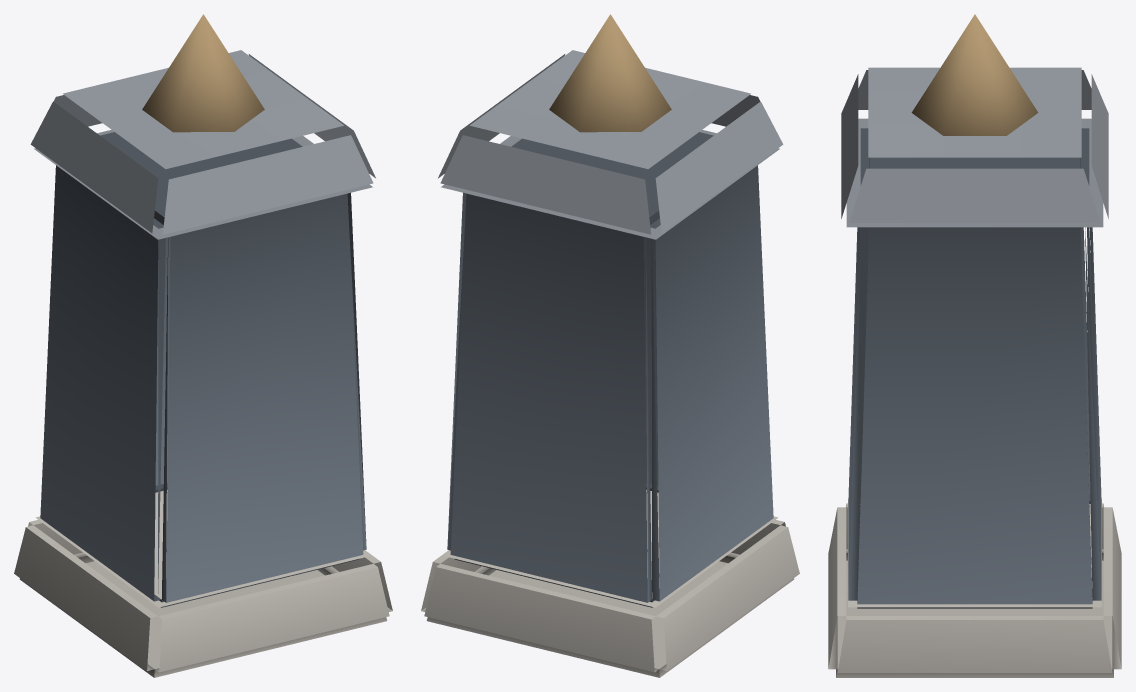
File: wall_lv2_pillar_lod1.glb
3 views of the same model, side by side, from view 1: azimuth 30°, elevation 25°; view 2: azimuth 150°, elevation 25°; view 3: azimuth 270°, elevation 25° (orthographic). The views are drawn at different scales.
Parts seen in each view (by area): view 1: wall_lv2_pillar.001; view 2: wall_lv2_pillar.001; view 3: wall_lv2_pillar.001.
Boxes of the visible parts, <box> form: wall_lv2_pillar.001: <box>14,14,392,677</box>; wall_lv2_pillar.001: <box>421,14,799,677</box>; wall_lv2_pillar.001: <box>828,14,1121,677</box>.
Size of the model in its own units: 0.9703 by 2.21 by 0.9703.
